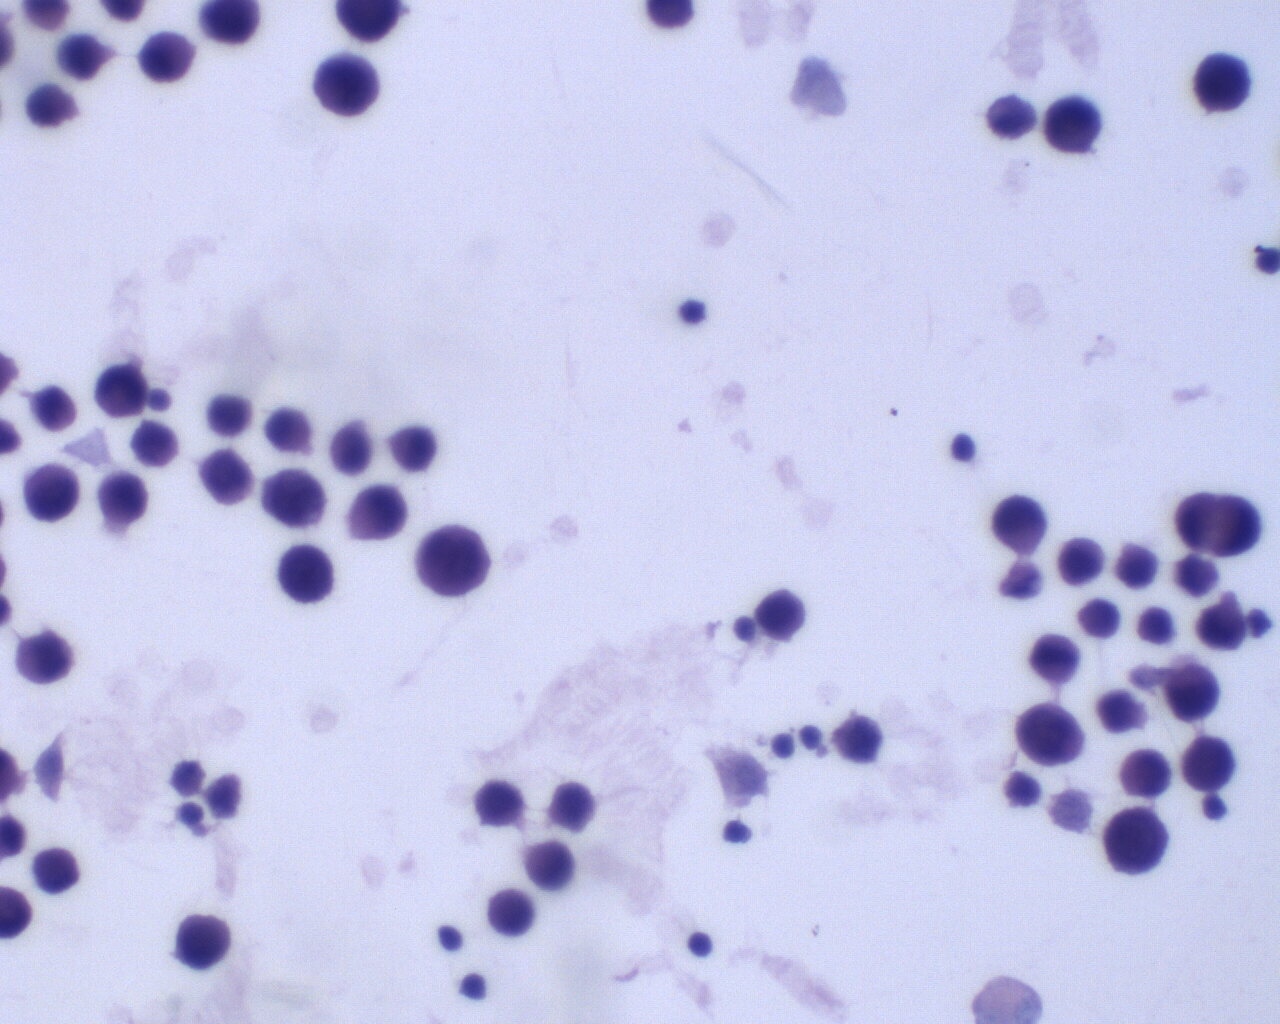ab: (412, 519, 491, 601), (1009, 702, 1088, 769), (1100, 802, 1169, 878), (312, 51, 381, 120), (262, 463, 328, 532), (167, 909, 235, 973), (275, 542, 339, 610), (21, 457, 82, 527), (1162, 662, 1225, 728), (1191, 51, 1255, 115), (11, 625, 74, 690), (343, 485, 409, 546), (1044, 95, 1106, 157), (1178, 735, 1240, 795), (92, 468, 153, 530), (990, 494, 1052, 552), (196, 447, 255, 508), (93, 360, 149, 420), (520, 838, 578, 893), (482, 888, 540, 942), (1195, 595, 1249, 652), (30, 844, 84, 901), (833, 709, 886, 765), (326, 421, 378, 478), (546, 776, 598, 834), (1121, 745, 1172, 802), (475, 775, 526, 834), (127, 419, 183, 471), (758, 585, 808, 641), (1058, 532, 1108, 588), (387, 422, 437, 475)
lymph: (686, 929, 715, 958)
